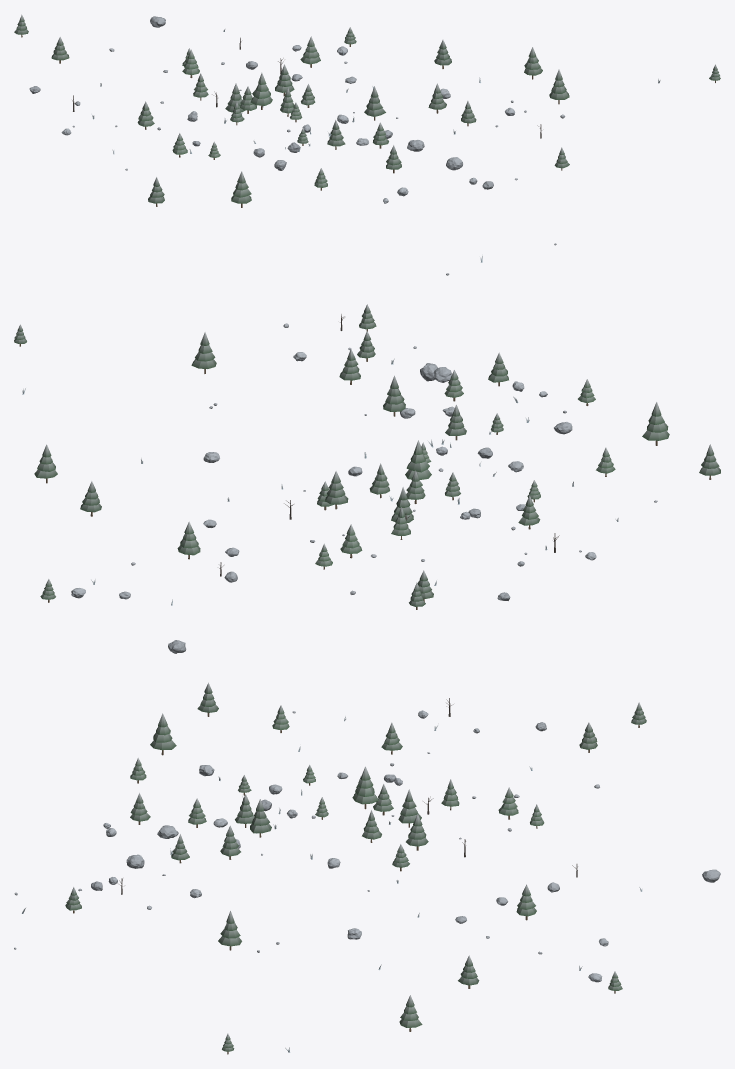
File: frost_land_scatter_c13_12.glb
The picture shows the model from 3 angles, top to bottom: view 1: azimuth 30°, elevation 25°; view 2: azimuth 150°, elevation 25°; view 3: azimuth 270°, elevation 25°; orthographic projection. The views are drawn at different scales.
Visible parts, largest first — view 1: frost_land_scatter_c13_12; view 2: frost_land_scatter_c13_12; view 3: frost_land_scatter_c13_12.
Boxes of the visible parts, left/top/right/bottom form: frost_land_scatter_c13_12: left=14, top=14, right=720, bottom=275; frost_land_scatter_c13_12: left=14, top=304, right=720, bottom=653; frost_land_scatter_c13_12: left=14, top=682, right=720, bottom=1054.
Bounding box in the file's own units: 256 × 45.54 × 238.
